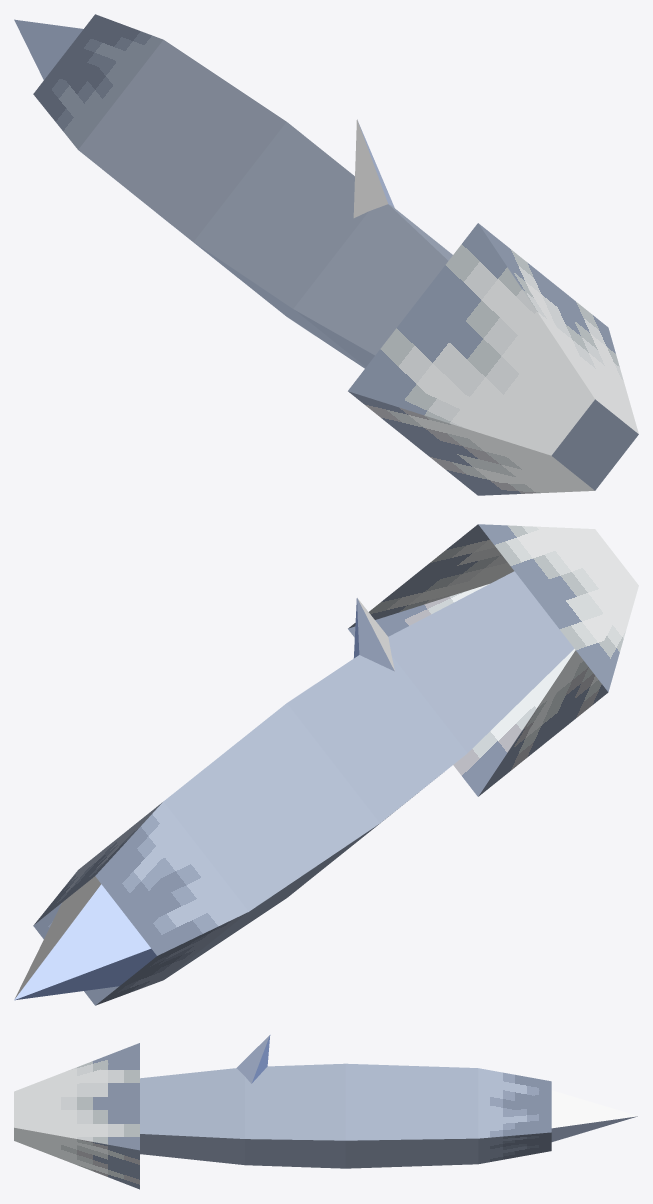
File: Sagetail.glb
The picture shows the model from 3 angles, top to bottom: view 1: azimuth 30°, elevation 25°; view 2: azimuth 150°, elevation 25°; view 3: azimuth 270°, elevation 25°; orthographic projection. The views are drawn at different scales.
Parts seen in each view (by area): view 1: Tail; view 2: Tail; view 3: Tail.
Boxes of the visible parts, x1,y1,x2,y2 form: Tail: (14,14,638,495); Tail: (14,524,638,1005); Tail: (14,1035,638,1189).
Bounding box in the file's own units: 0.0942 × 0.0996 × 0.3637.
Materials: 1 (1 with a texture image).
